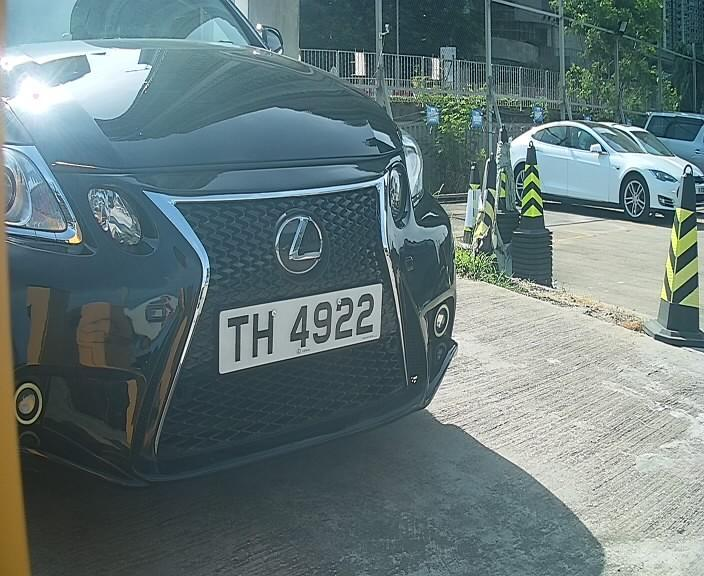privatecar: (10, 24, 475, 502)
